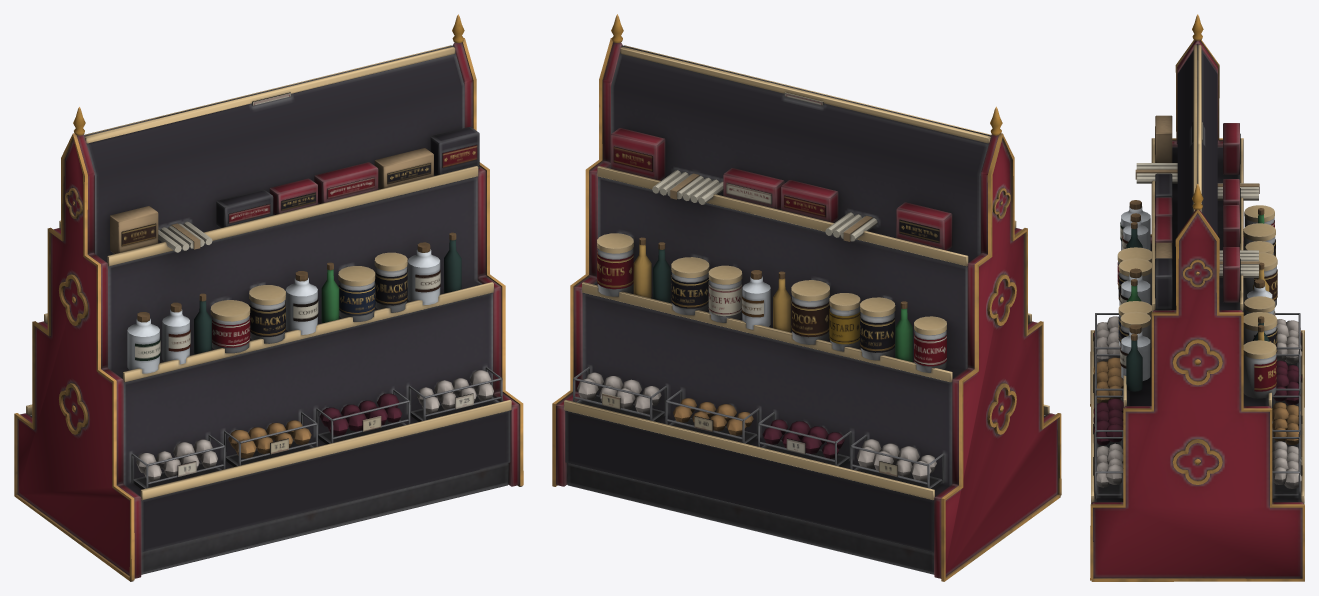
The model's file is IslandShelf.fbx.
The picture shows the model from 3 angles, left to right: view 1: azimuth 30°, elevation 25°; view 2: azimuth 150°, elevation 25°; view 3: azimuth 270°, elevation 25°; orthographic projection. The views are drawn at different scales.
Visible parts, largest first — view 1: IslandShelf; view 2: IslandShelf; view 3: IslandShelf.
Boxes of the visible parts, <box> form: IslandShelf: <box>14,14,523,581</box>; IslandShelf: <box>552,14,1061,581</box>; IslandShelf: <box>1090,14,1304,581</box>.
Size of the model in its own units: 510 by 536 by 263.
